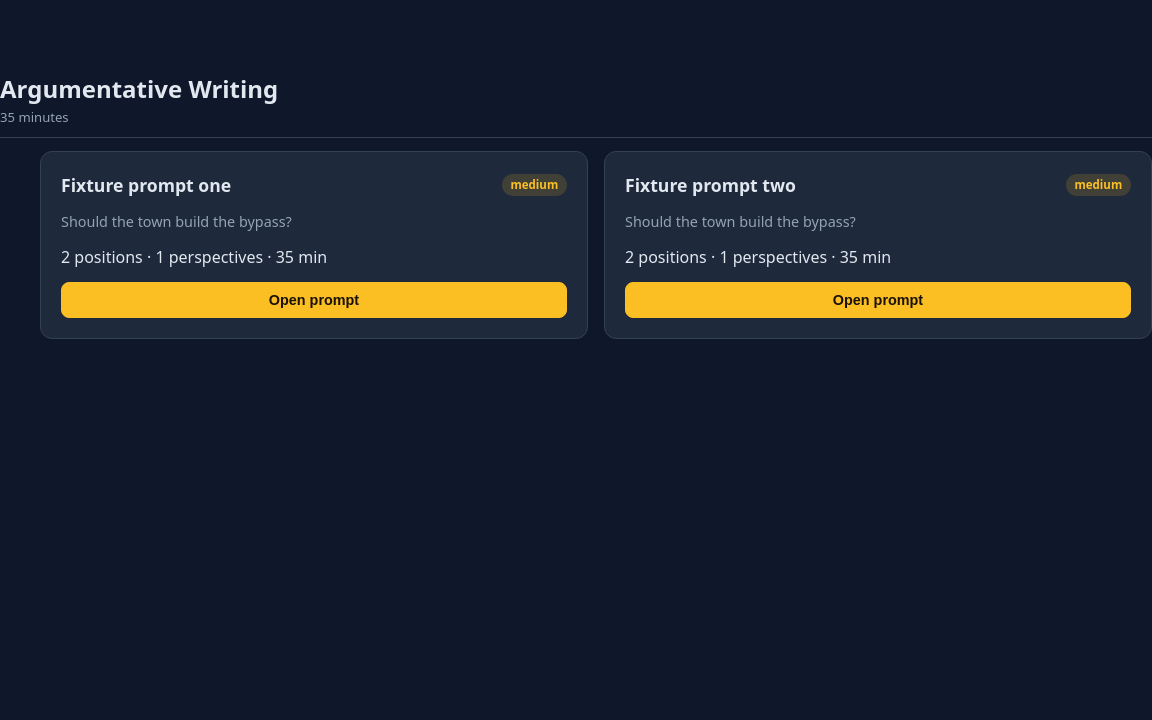
Test: Writing workspace › the 35-minute clock › resets to the full limit
This screenshot has width=1152, height=720.
Press o
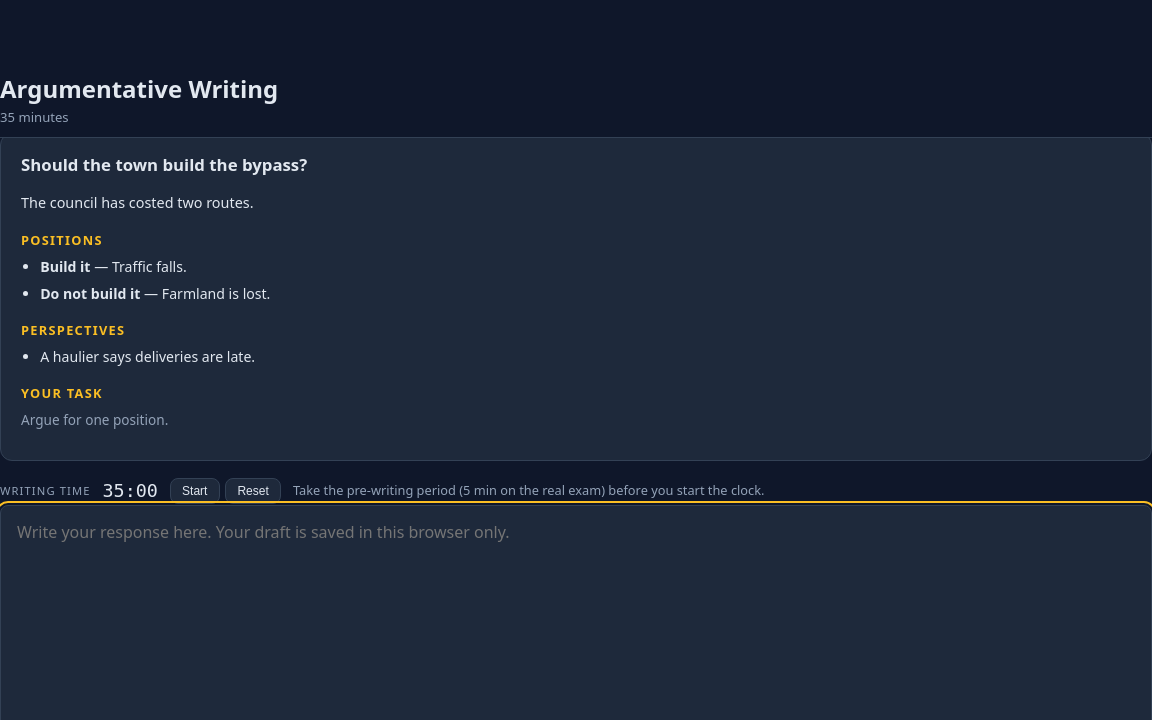
Click the button "Start" at (195, 491), box x1=170 y1=478 x2=220 y2=504
Wait 90000 ms
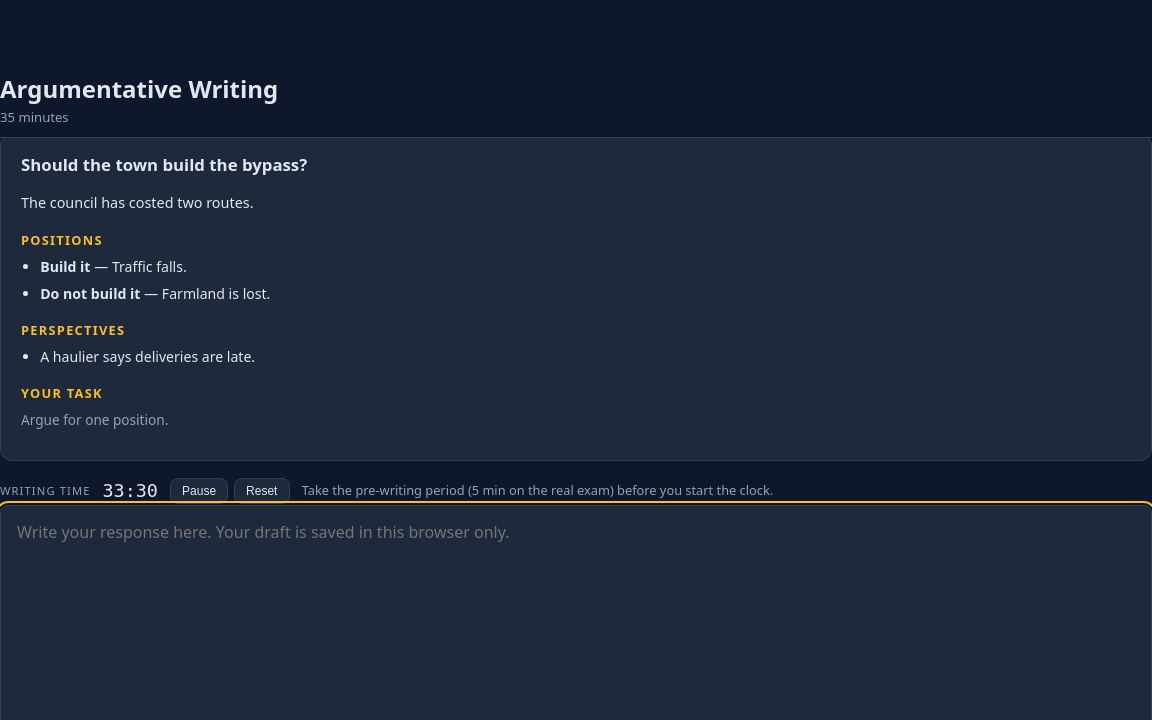
Expected: the text "33:30" is shown, x1=102 y1=477 x2=158 y2=505
Click the button "Reset" at (262, 491), box x1=234 y1=478 x2=290 y2=504
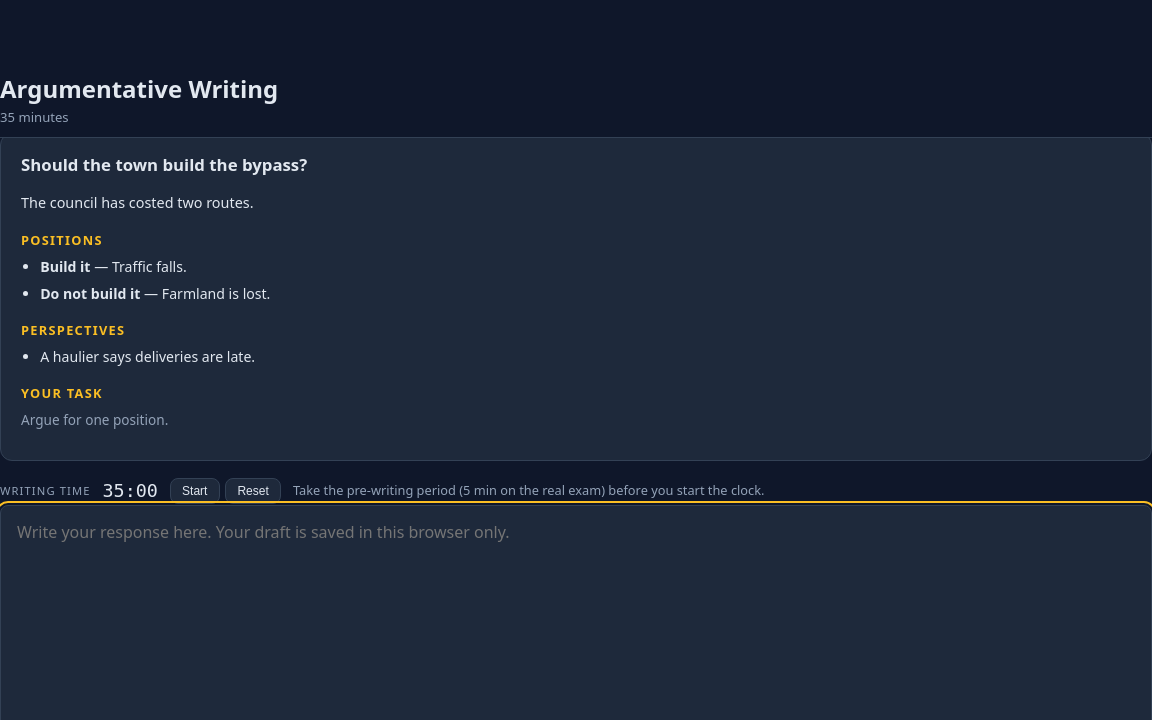
Expected: the text "35:00" is shown, x1=102 y1=477 x2=158 y2=505
Expected: the button "Start" is shown, x1=170 y1=478 x2=220 y2=504
